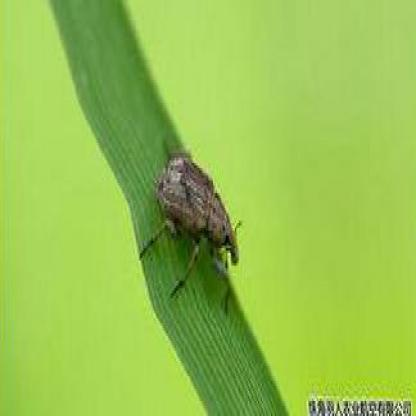rice-bug: (149, 148, 241, 298)
